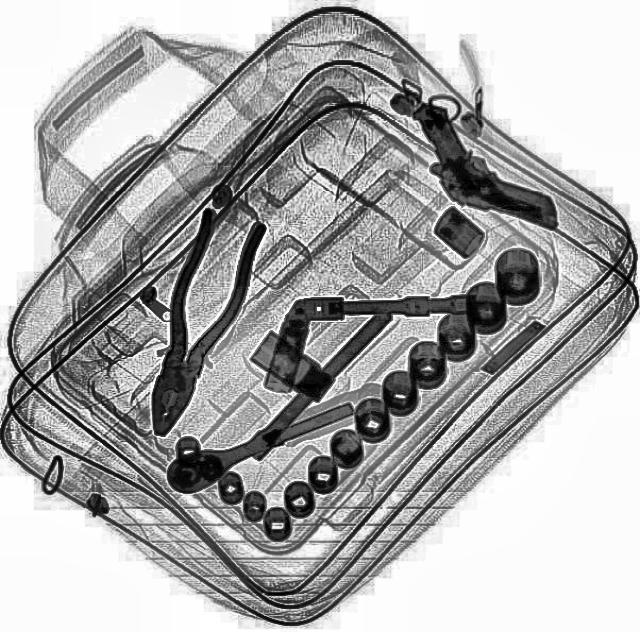Gun: (402, 77, 562, 258)
Pliers: (120, 206, 270, 446)
